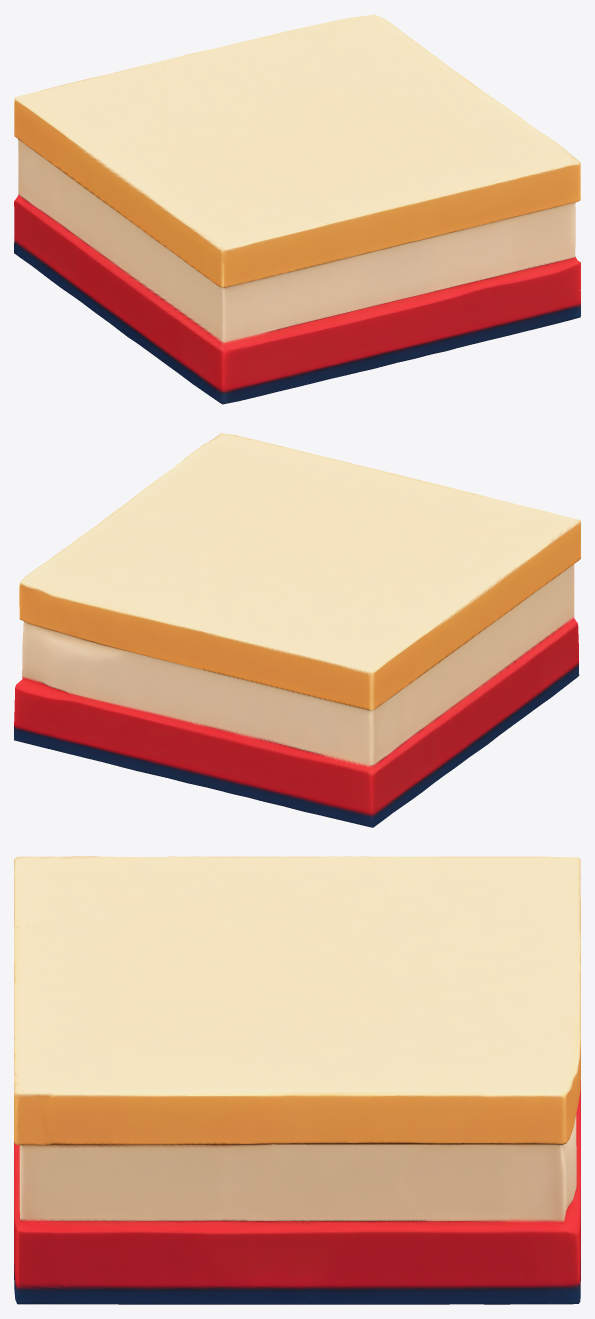
File: 04-platform-v2.fbx
3 views of the same model, one above another, from view 1: azimuth 30°, elevation 25°; view 2: azimuth 150°, elevation 25°; view 3: azimuth 270°, elevation 25° (orthographic). The views are drawn at different scales.
Visible parts, largest first — view 1: model; view 2: model; view 3: model.
Part boxes in pixels (box(x1,y1,x2,y2)): model: box(14, 14, 580, 404); model: box(14, 433, 580, 827); model: box(14, 856, 580, 1304).
Size of the model in its own units: 190 by 78.07 by 190.
